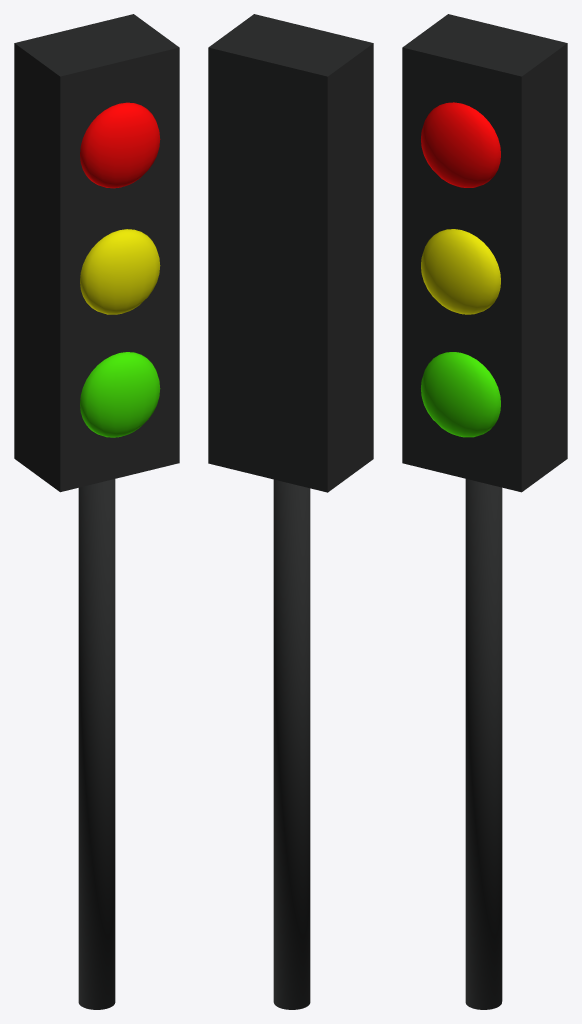
File: stoplight.glb
The picture shows the model from 3 angles, left to right: view 1: azimuth 30°, elevation 25°; view 2: azimuth 150°, elevation 25°; view 3: azimuth 330°, elevation 25°; orthographic projection.
Parts seen in each view (by area): view 1: post, green, yellow, red; view 2: post; view 3: post, yellow, green, red.
Boxes of the visible parts, x1=… form: post: x1=14, y1=14, x2=179, y2=1009; green: x1=80, y1=352, x2=160, y2=437; yellow: x1=80, y1=229, x2=160, y2=314; red: x1=80, y1=102, x2=160, y2=188; post: x1=208, y1=14, x2=373, y2=1009; post: x1=402, y1=14, x2=567, y2=1009; yellow: x1=421, y1=229, x2=500, y2=314; green: x1=421, y1=352, x2=500, y2=437; red: x1=421, y1=102, x2=500, y2=187.
Size of the model in its own units: 0.3011 by 2.31 by 0.2492.
